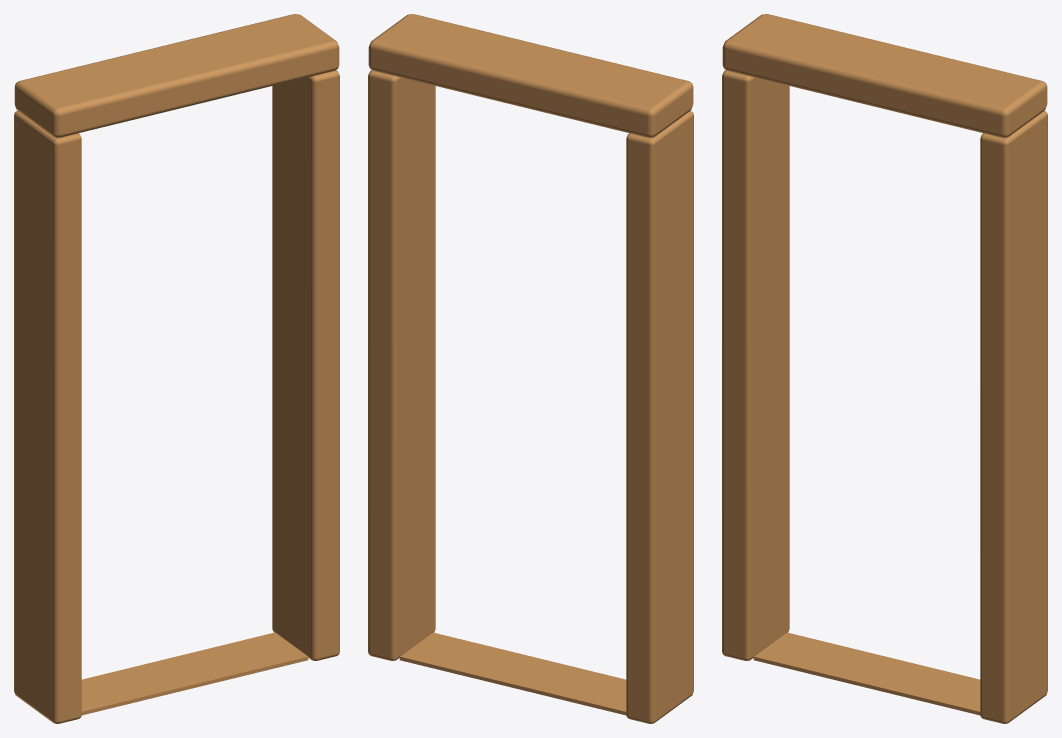
File: wg_wand_halb_tuer.glb
The picture shows the model from 3 angles, left to right: view 1: azimuth 30°, elevation 25°; view 2: azimuth 150°, elevation 25°; view 3: azimuth 330°, elevation 25°; orthographic projection.
Parts seen in each view (by area): view 1: wg_wand_halb_tuer; view 2: wg_wand_halb_tuer; view 3: wg_wand_halb_tuer.
Part boxes in pixels (bbox=[...]): wg_wand_halb_tuer: bbox=[14, 14, 339, 723]; wg_wand_halb_tuer: bbox=[368, 14, 693, 723]; wg_wand_halb_tuer: bbox=[722, 14, 1047, 723].
Bounding box in the file's own units: 1 × 2.05 × 0.26.
